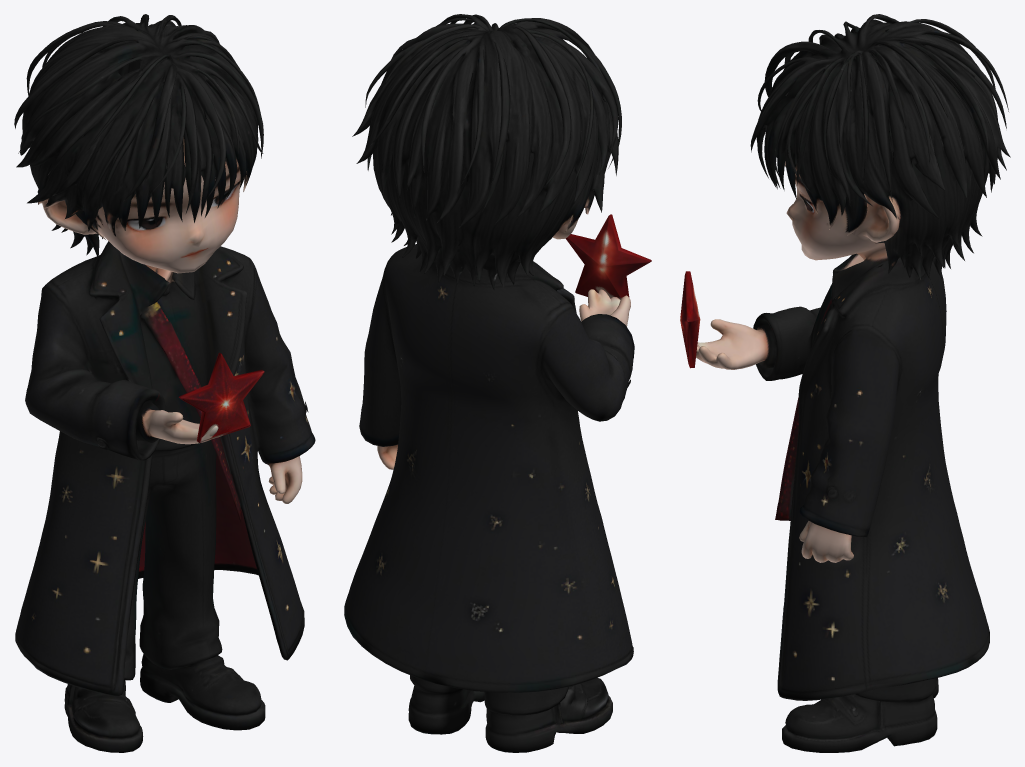
Rendered from figure-05-midnight.glb.
3 renders of one model, left to right at view 1: azimuth 30°, elevation 25°; view 2: azimuth 150°, elevation 25°; view 3: azimuth 270°, elevation 25°, orthographic. The views are drawn at different scales.
Visible parts, largest first — view 1: tripo_node_290b07f3; view 2: tripo_node_290b07f3; view 3: tripo_node_290b07f3.
Part boxes in pixels (x1=…): tripo_node_290b07f3: x1=14, y1=14, x2=315, y2=752; tripo_node_290b07f3: x1=344, y1=14, x2=651, y2=752; tripo_node_290b07f3: x1=680, y1=14, x2=1010, y2=752.
Bounding box in the file's own units: 0.4106 × 0.9995 × 0.439.
1 material, 1 textured.
